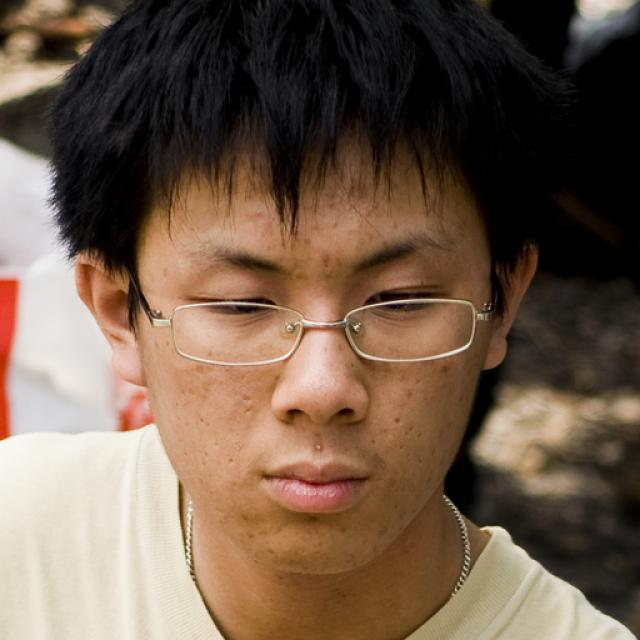anger: (144, 116, 488, 575)
